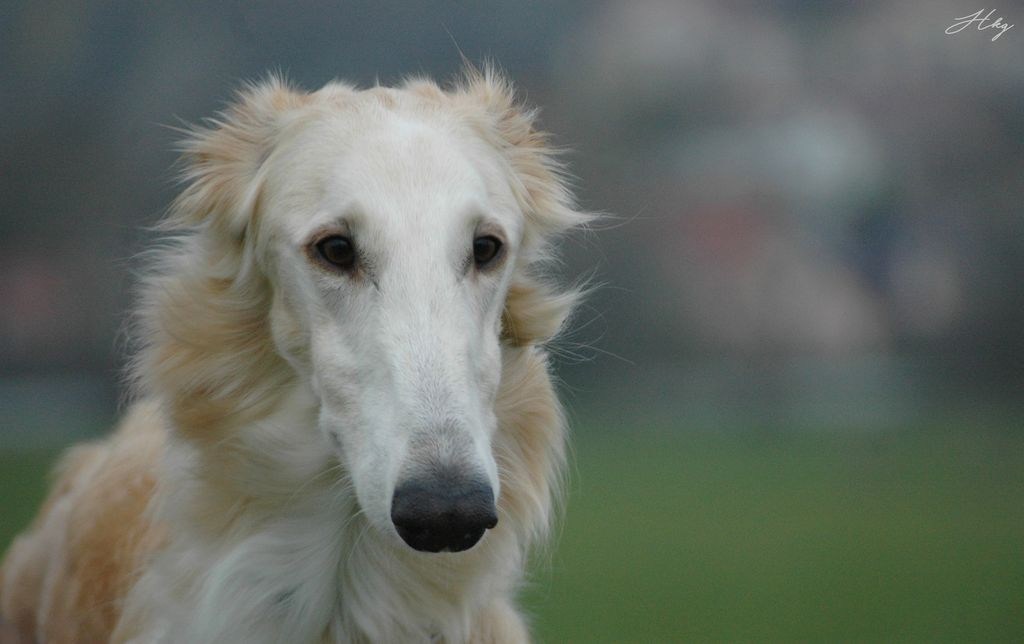borzoi: (8, 54, 688, 642)
